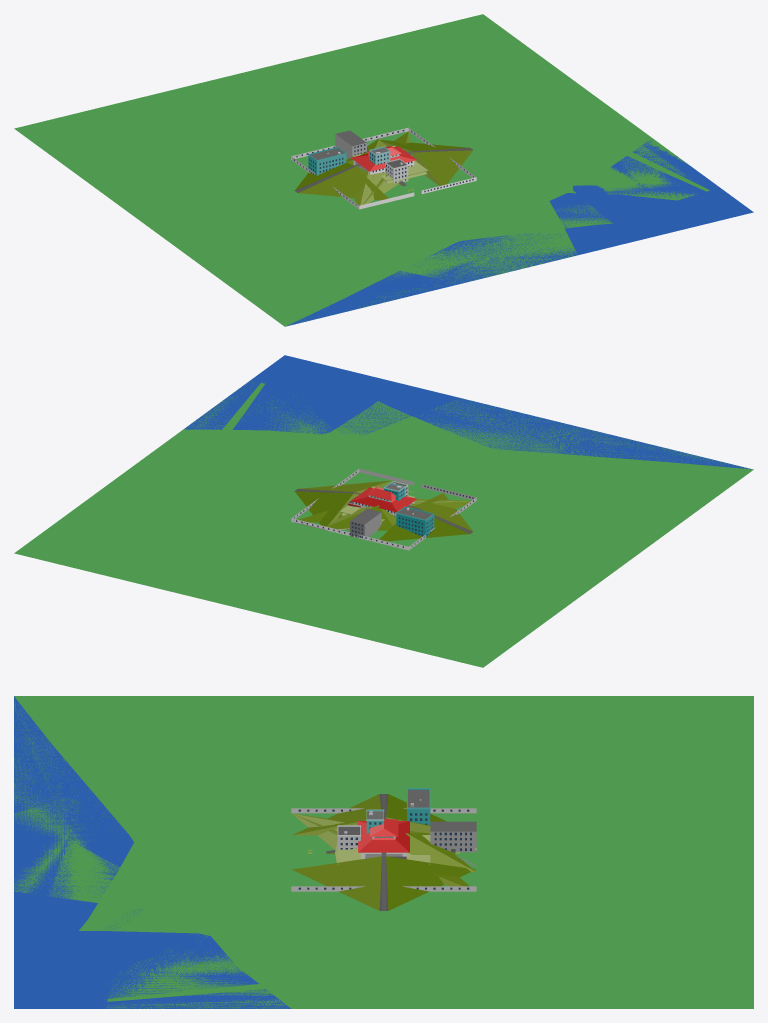
The picture shows the model from 3 angles, top to bottom: view 1: azimuth 30°, elevation 25°; view 2: azimuth 150°, elevation 25°; view 3: azimuth 270°, elevation 25°; orthographic projection. The views are drawn at different scales.
Visible parts, largest first — view 1: vn_057_lod0, vn_060_lod0, vn_002_lod0, vn_058_lod0, vn_081_lod0, vn_001_lod0, vn_087_lod0, vn_070_lod0, vn_029_lod0, vn_062_lod0_s1v0, vn_071_lod0, vn_088_lod0; view 2: vn_057_lod0, vn_060_lod0, vn_058_lod0, vn_002_lod0, vn_001_lod0, vn_029_lod0, vn_070_lod0, vn_062_lod0_s1v0, vn_087_lod0, vn_081_lod0, vn_003_lod0, vn_062_lod0_s1v0_detail; view 3: vn_057_lod0, vn_060_lod0, vn_002_lod0, vn_058_lod0, vn_081_lod0, vn_070_lod0, vn_001_lod0, vn_029_lod0, vn_062_lod0_s1v0, vn_087_lod0, vn_071_lod0, vn_003_lod0 (+3 smaller).
Boxes of the visible parts, <box> form: vn_057_lod0: <box>14,14,751,326</box>; vn_060_lod0: <box>14,42,752,324</box>; vn_002_lod0: <box>419,14,651,185</box>; vn_058_lod0: <box>287,193,753,325</box>; vn_081_lod0: <box>574,138,709,200</box>; vn_001_lod0: <box>286,271,448,326</box>; vn_087_lod0: <box>294,162,388,200</box>; vn_070_lod0: <box>376,139,473,185</box>; vn_029_lod0: <box>291,127,476,209</box>; vn_062_lod0_s1v0: <box>308,130,410,175</box>; vn_071_lod0: <box>390,141,472,185</box>; vn_088_lod0: <box>296,162,384,198</box>; vn_057_lod0: <box>14,355,753,667</box>; vn_060_lod0: <box>131,356,750,667</box>; vn_058_lod0: <box>285,355,747,468</box>; vn_002_lod0: <box>14,429,321,555</box>; vn_001_lod0: <box>578,427,753,469</box>; vn_029_lod0: <box>291,468,476,550</box>; vn_070_lod0: <box>294,480,391,526</box>; vn_062_lod0_s1v0: <box>347,484,434,538</box>; vn_087_lod0: <box>379,493,473,541</box>; vn_081_lod0: <box>185,381,332,434</box>; vn_003_lod0: <box>327,501,470,530</box>; vn_062_lod0_s1v0_detail: <box>347,482,434,537</box>; vn_057_lod0: <box>14,696,753,1008</box>; vn_060_lod0: <box>14,696,753,1008</box>; vn_002_lod0: <box>211,936,753,1008</box>; vn_058_lod0: <box>14,699,188,1008</box>; vn_081_lod0: <box>105,935,287,1008</box>; vn_070_lod0: <box>292,856,475,910</box>; vn_001_lod0: <box>14,696,91,813</box>; vn_029_lod0: <box>291,808,476,891</box>; vn_062_lod0_s1v0: <box>366,790,476,859</box>; vn_087_lod0: <box>292,794,446,835</box>; vn_071_lod0: <box>292,856,470,909</box>; vn_003_lod0: <box>293,813,475,871</box>.
Size of what is drawn, in the model's own units: 4096 by 212 by 4096.
